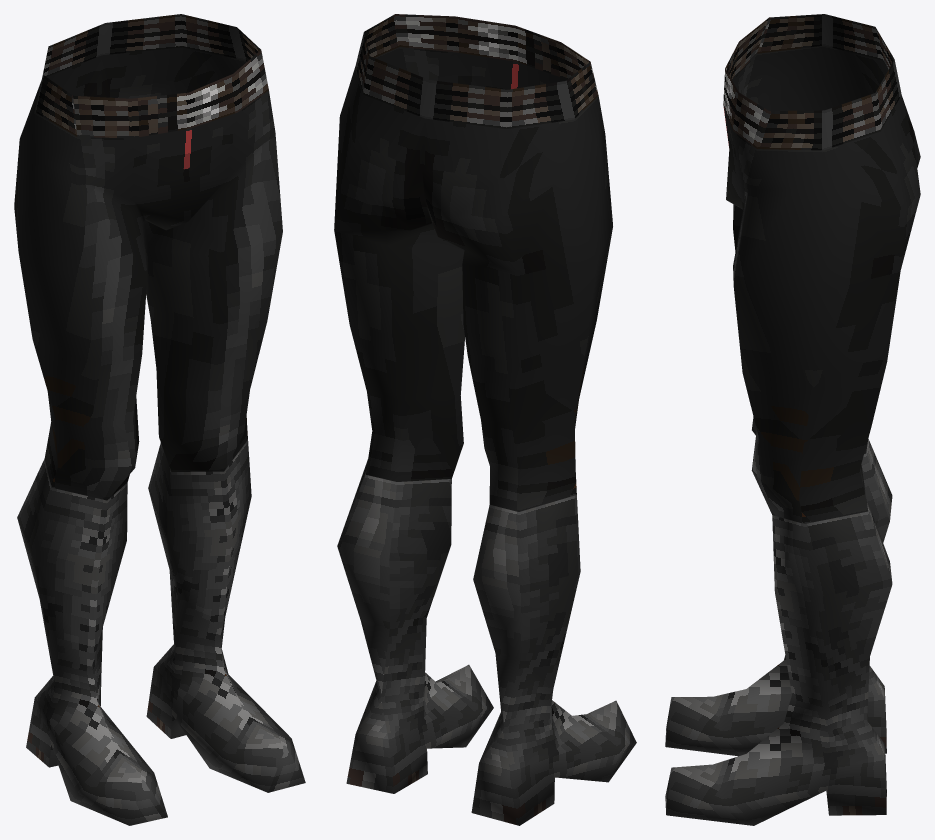
Rendered from m_reg122.glb.
3 renders of one model, left to right at view 1: azimuth 30°, elevation 25°; view 2: azimuth 150°, elevation 25°; view 3: azimuth 270°, elevation 25°, orthographic. The views are drawn at different scales.
Bounding box in the file's own units: 39.97 × 108 × 34.85.
1 material, 1 textured.
